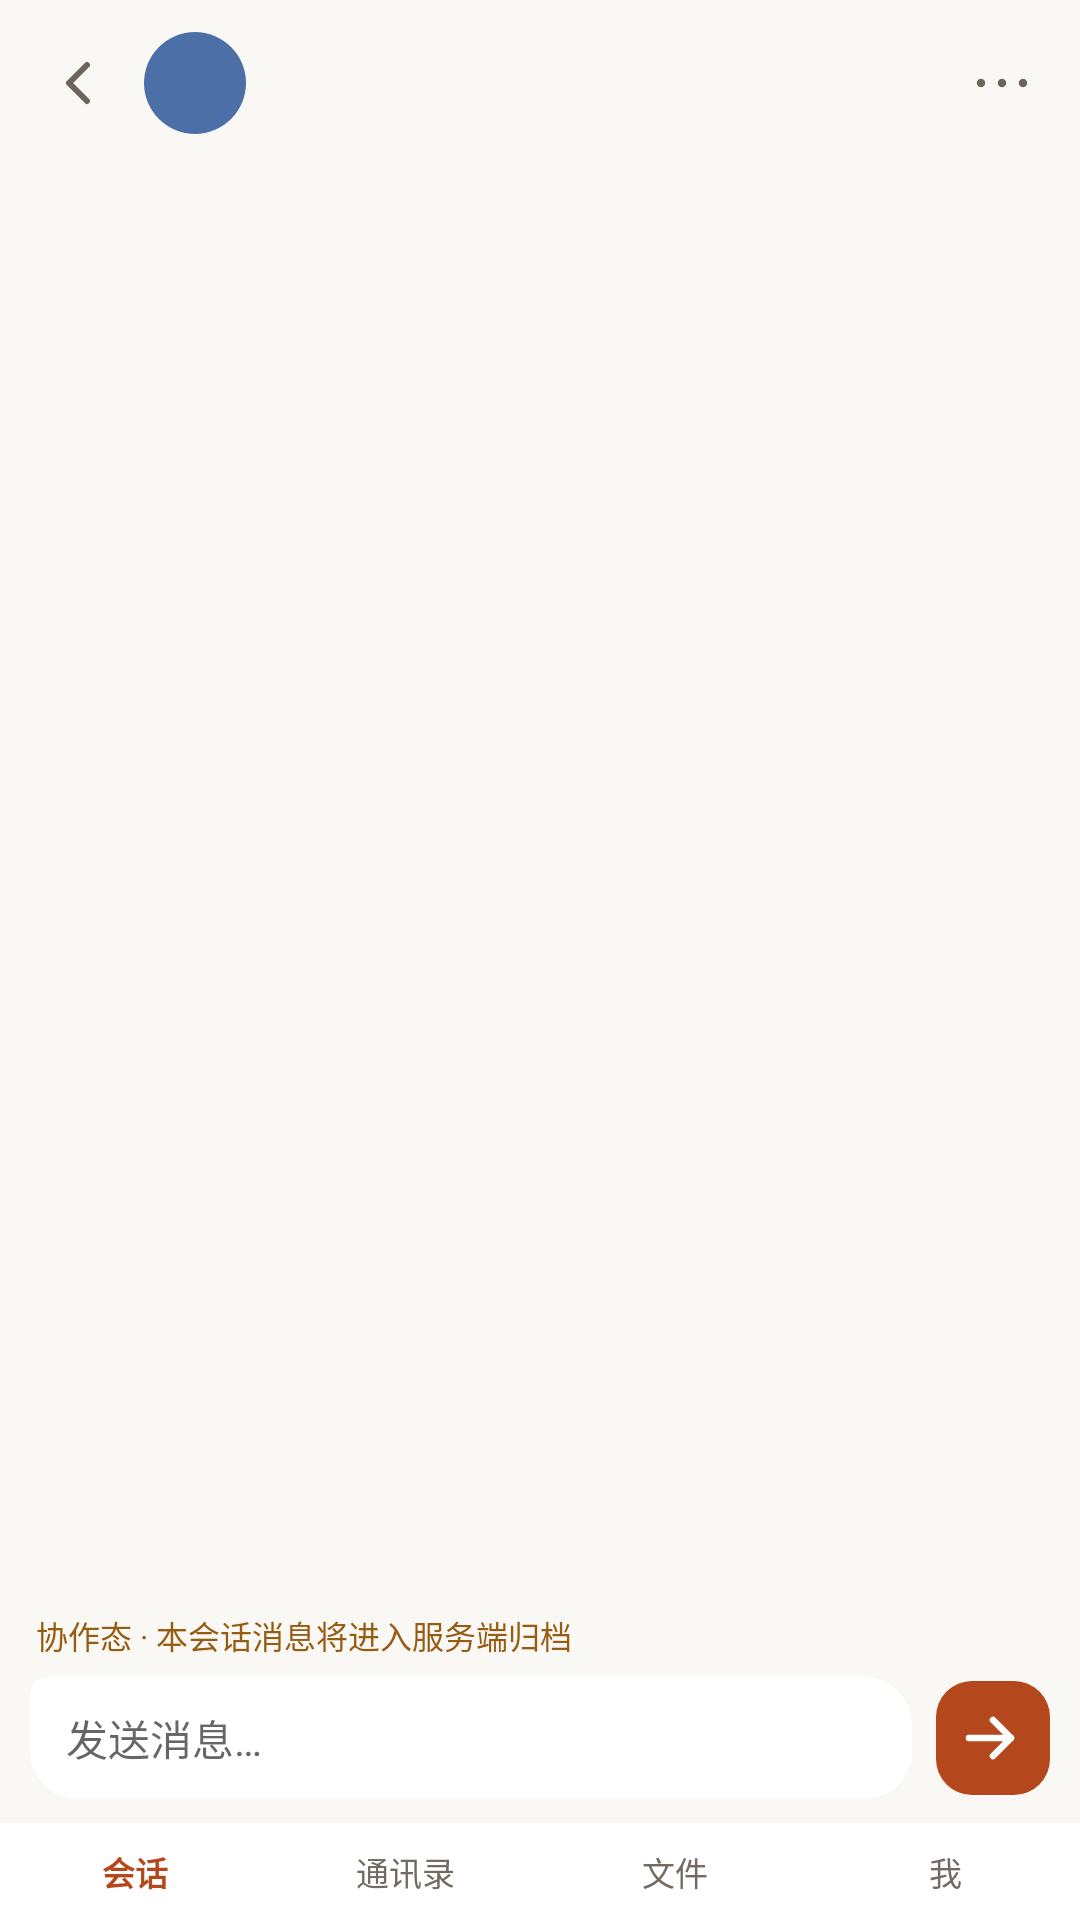

Point at icon controls on the screen. Image size 1080×1920, points as (x=x, y=y).
返回: (x=78, y=83)
